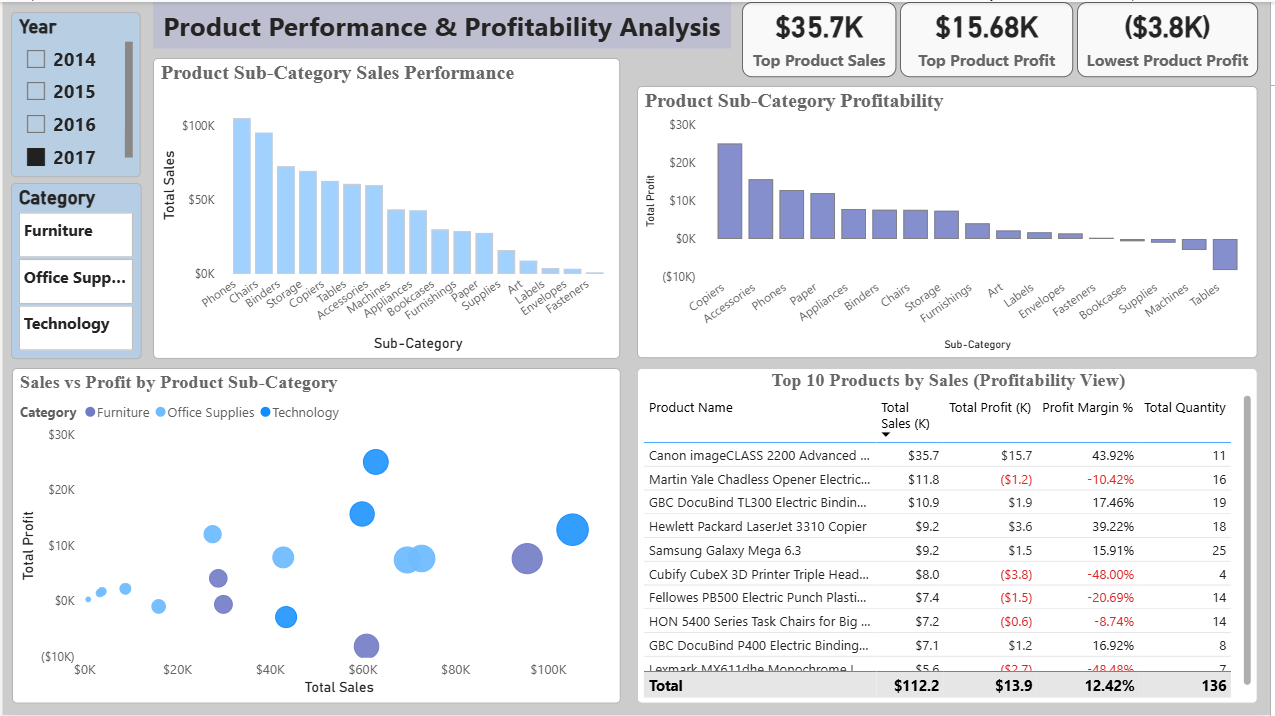

What the dashboard file says about the page in this screenshot:
{"tool":"powerbi","page":{"name":"Product Analysis","canvas":[1280,720],"ordinal":1},"visuals":[{"type":"slicer","title":"Year","fields":{"Values":["Calendar.Year"]},"box":[8.6,9.8,131.2,166.7],"z":0},{"type":"advancedSlicerVisual","fields":{"Values":["Dim_Product.Category"]},"box":[8.1,182.7,132,177.6],"z":1000},{"type":"clusteredColumnChart","title":"Product Sub-Category Sales  Performance","fields":{"Category":["Dim_Product.Sub-Category"],"Y":["All Measures.Total Sales"]},"box":[152,56.4,472,304.1],"z":2000},{"type":"clusteredColumnChart","title":"Product Sub-Category  Profitability","fields":{"Category":["Dim_Product.Sub-Category"],"Y":["All Measures.Total Profit"]},"box":[640.5,85.3,627.3,275.1],"z":3000},{"type":"scatterChart","title":"Sales vs Profit by Product Sub-Category","fields":{"X":["All Measures.Total Sales"],"Y":["All Measures.Total Profit"],"Category":["Dim_Product.Sub-Category"],"Size":["All Measures.Total Sales"],"Series":["Dim_Product.Category"]},"box":[9.1,369.5,615.1,339],"z":4000},{"type":"tableEx","title":"Top 10 Products by Sales (Profitability View)","fields":{"Values":["Dim_Product.Product Name","All Measures.Total Sales (K)","All Measures.Total Profit (K)","All Measures.Profit Margin %","All Measures.Total Quantity"]},"box":[640.5,369.5,627.3,339],"z":5000},{"type":"textbox","box":[152,0,583.6,46.6],"z":6000},{"type":"card","fields":{"Values":["All Measures.Top Product Sales"]},"box":[746.7,0,155.7,76],"z":7000},{"type":"card","fields":{"Values":["All Measures.Lowest Product Profit"]},"box":[1085.1,0,182.7,76],"z":8000},{"type":"card","fields":{"Values":["All Measures.Top Product Profit"]},"box":[906.1,0,175.3,76],"z":9000}]}

Visuals, with their boxes in screenshot pixels (x1, y1, x2, y2), scaled from the page's 1280x720 canvas onto the 1275x716 screenshot:
"Year" slicer: <bbox>9, 10, 139, 176</bbox>
advancedSlicerVisual - Dim_Product.Category: <bbox>8, 182, 140, 358</bbox>
"Product Sub-Category Sales  Performance" clusteredColumnChart: <bbox>151, 56, 622, 358</bbox>
"Product Sub-Category  Profitability" clusteredColumnChart: <bbox>638, 85, 1263, 358</bbox>
"Sales vs Profit by Product Sub-Category" scatterChart: <bbox>9, 367, 622, 705</bbox>
"Top 10 Products by Sales (Profitability View)" tableEx: <bbox>638, 367, 1263, 705</bbox>
textbox: <bbox>151, 0, 733, 46</bbox>
card - All Measures.Top Product Sales: <bbox>744, 0, 899, 76</bbox>
card - All Measures.Lowest Product Profit: <bbox>1081, 0, 1263, 76</bbox>
card - All Measures.Top Product Profit: <bbox>903, 0, 1077, 76</bbox>
